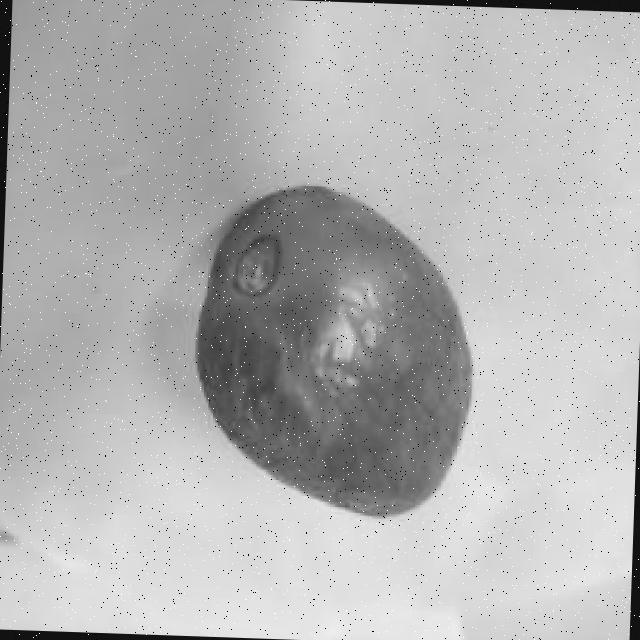overripe: (184, 180, 476, 522)
